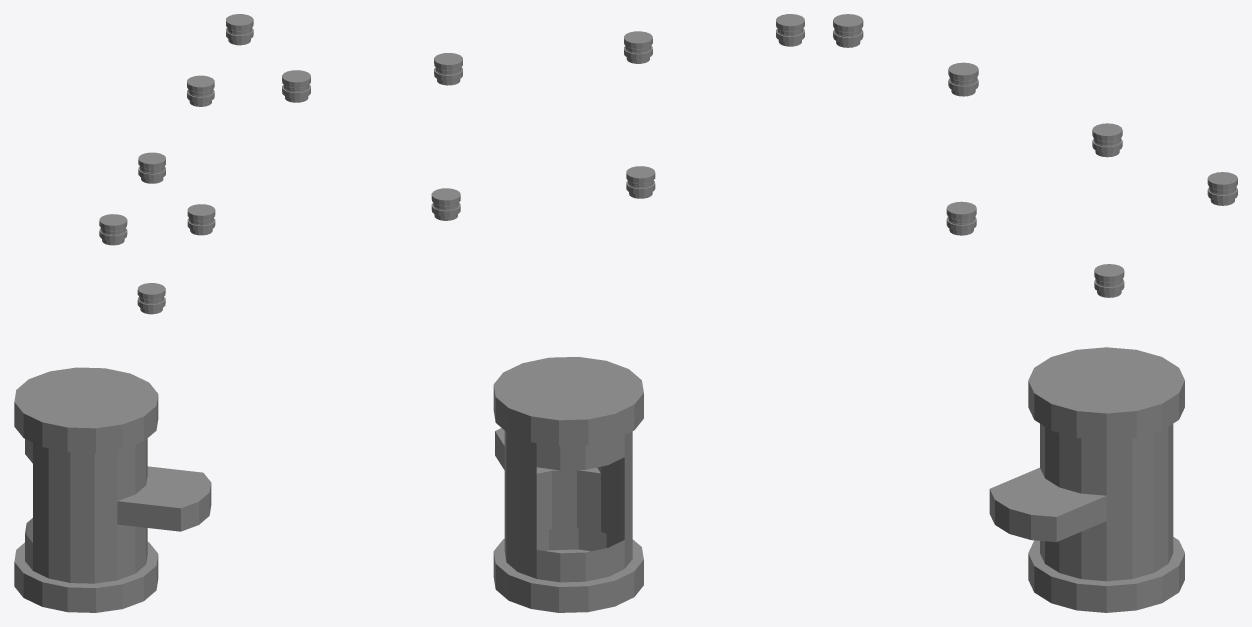
File: eletric_(pole)_(transformer)_metal_(matte)_0_lev3.glb
3 views of the same model, side by side, from view 1: azimuth 30°, elevation 25°; view 2: azimuth 150°, elevation 25°; view 3: azimuth 270°, elevation 25° (orthographic). The views are drawn at different scales.
Parts seen in each view (by area): view 1: eletric_(pole)_(transformer)_metal_(matte)_0_lev3; view 2: eletric_(pole)_(transformer)_metal_(matte)_0_lev3; view 3: eletric_(pole)_(transformer)_metal_(matte)_0_lev3.
Part boxes in pixels (bbox=[...]): eletric_(pole)_(transformer)_metal_(matte)_0_lev3: bbox=[14, 14, 253, 612]; eletric_(pole)_(transformer)_metal_(matte)_0_lev3: bbox=[282, 14, 804, 612]; eletric_(pole)_(transformer)_metal_(matte)_0_lev3: bbox=[833, 14, 1237, 612].
Bounding box in the file's own units: 1.27 × 1.77 × 1.27.
Materials: 1 (1 with a texture image).
